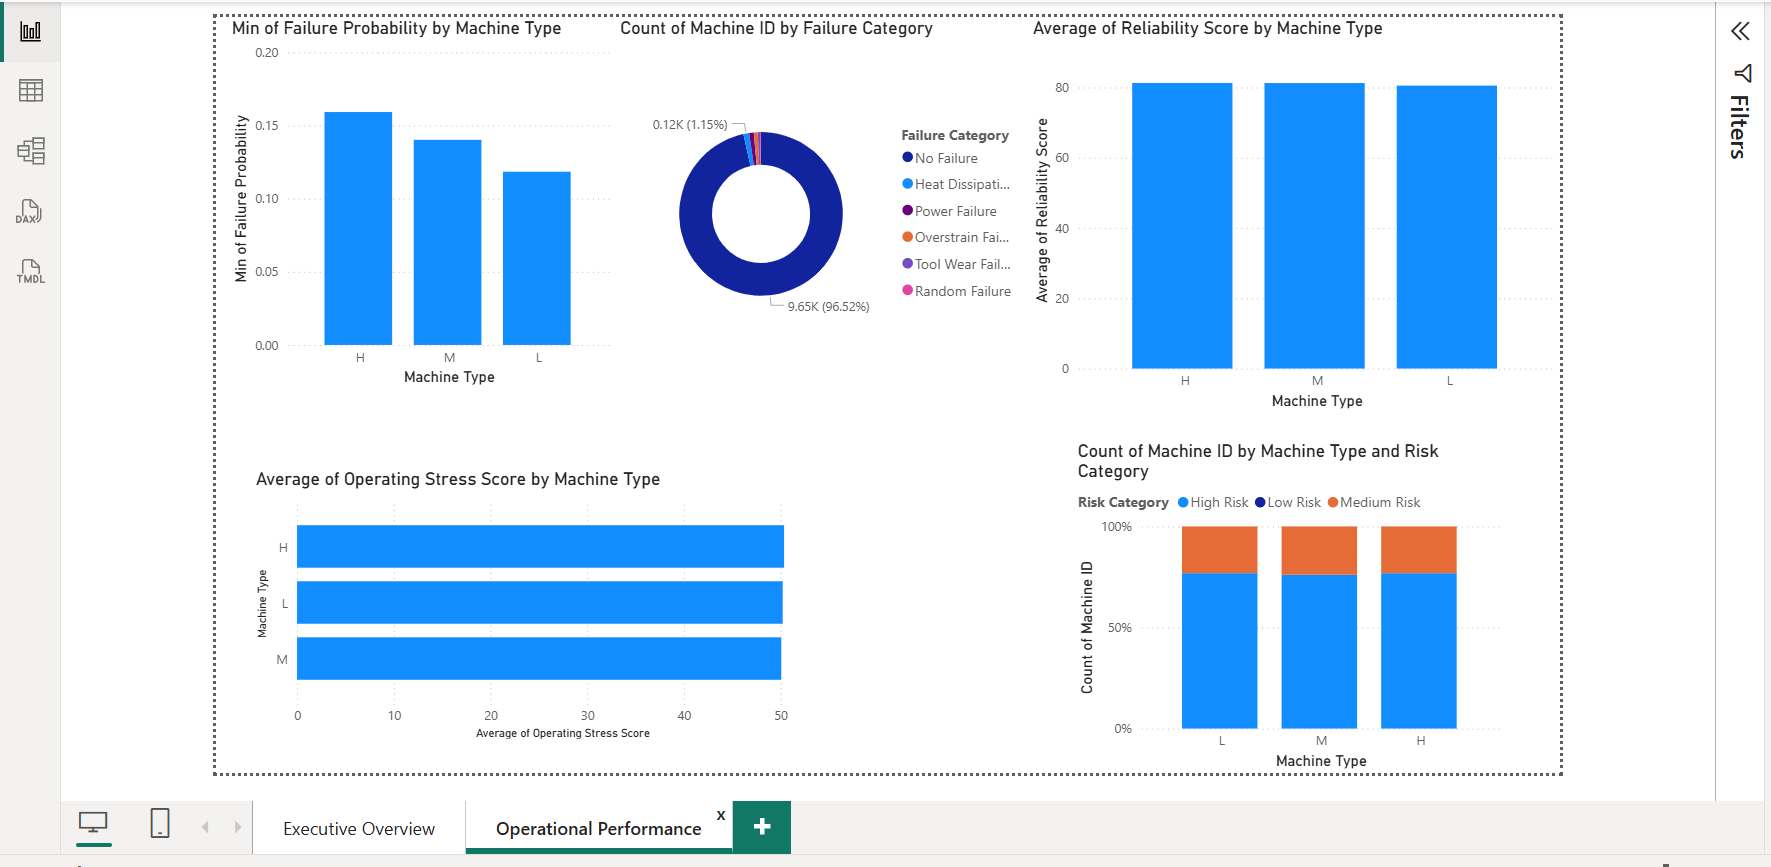

The page's visual inventory and layout, read from the dashboard file:
{"tool":"powerbi","page":{"name":"Operational Performance","canvas":[1280,720],"ordinal":1},"visuals":[{"type":"clusteredColumnChart","fields":{"Category":["machine_dashboard_dataset.Machine Type"],"Y":["Min(machine_dashboard_dataset.Failure Probability)"]},"box":[10,0,370,355],"z":0},{"type":"columnChart","fields":{"Category":["machine_dashboard_dataset.Machine Type"],"Y":["Avg(machine_dashboard_dataset.Reliability Score)"]},"box":[772.5,0,507.5,377.5],"z":3000},{"type":"hundredPercentStackedColumnChart","fields":{"Category":["machine_dashboard_dataset.Machine Type"],"Series":["machine_dashboard_dataset.Risk Category"],"Y":["Count(machine_dashboard_dataset.Machine ID)"]},"box":[815,402.5,412.5,317.5],"z":3001},{"type":"donutChart","fields":{"Category":["machine_dashboard_dataset.Failure Category"],"Y":["Count(machine_dashboard_dataset.Machine ID)"]},"box":[380,0,392.5,355],"z":3002},{"type":"clusteredBarChart","fields":{"Category":["machine_dashboard_dataset.Machine Type"],"Y":["Avg(machine_dashboard_dataset.Operating Stress Score)"]},"box":[32.5,430,562.5,262.5],"z":3003}]}

Visuals, with their boxes on the page's 1280x720 design canvas (x1, y1, x2, y2). These are canvas units, not pixel positions in the 1771x867 screenshot, which may show the page scaled, cropped or inside an application window:
clusteredColumnChart - machine_dashboard_dataset.Machine Type x Min(machine_dashboard_dataset.Failure Probability): 10, 0, 380, 355
columnChart - machine_dashboard_dataset.Machine Type x Avg(machine_dashboard_dataset.Reliability Score): 772, 0, 1280, 378
hundredPercentStackedColumnChart - machine_dashboard_dataset.Machine Type x machine_dashboard_dataset.Risk Category: 815, 402, 1228, 720
donutChart - machine_dashboard_dataset.Failure Category x Count(machine_dashboard_dataset.Machine ID): 380, 0, 772, 355
clusteredBarChart - machine_dashboard_dataset.Machine Type x Avg(machine_dashboard_dataset.Operating Stress Score): 32, 430, 595, 692
